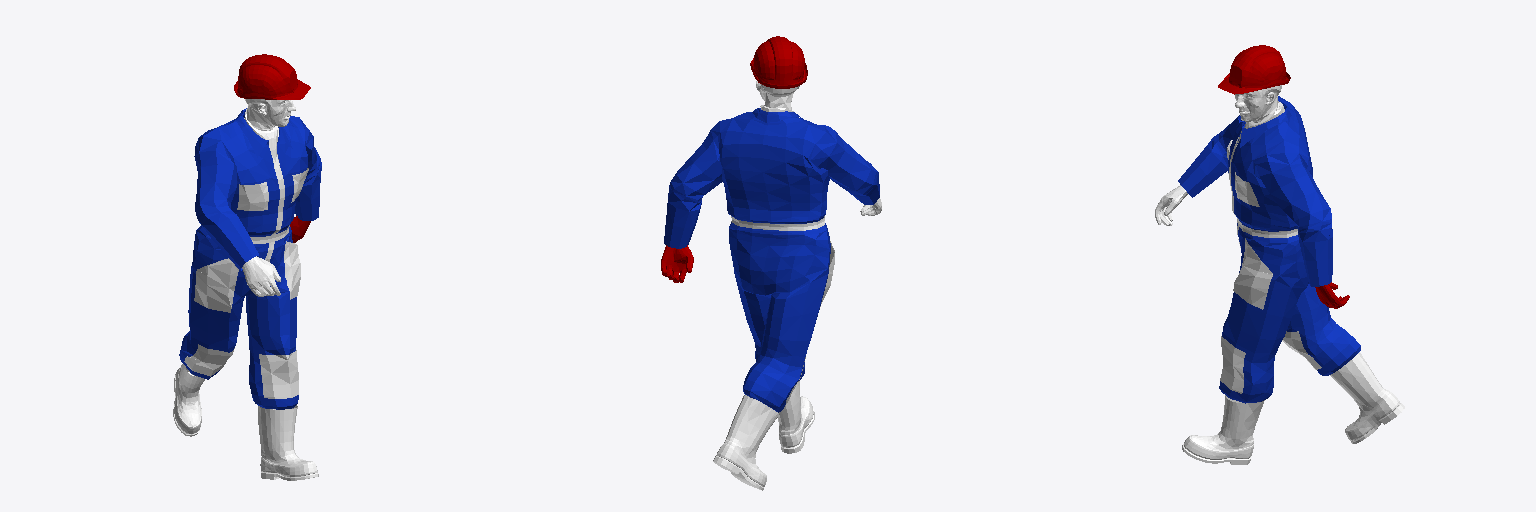
The model's file is constructor-worker.obj.
The picture shows the model from 3 angles: view 1: azimuth 30°, elevation 25°; view 2: azimuth 150°, elevation 25°; view 3: azimuth 270°, elevation 25°; orthographic projection.
Visible parts, largest first — view 1: ID105, ID83, ID179, ID69, ID45, ID75, ID133, ID139, ID57, ID63, ID51; view 2: ID105, ID75, ID179, ID83, ID123, ID17; view 3: ID105, ID83, ID75, ID179, ID51, ID139, ID45, ID133.
Boxes of the visible parts, x1,y1,x2,y2 form: ID105: [179, 108, 321, 409]; ID83: [258, 405, 317, 476]; ID179: [234, 54, 310, 99]; ID69: [194, 258, 238, 312]; ID45: [259, 350, 298, 398]; ID75: [174, 364, 204, 433]; ID133: [242, 256, 280, 296]; ID139: [244, 100, 295, 136]; ID57: [184, 344, 234, 376]; ID63: [237, 182, 268, 210]; ID51: [284, 241, 300, 299]; ID105: [664, 108, 879, 412]; ID75: [716, 395, 779, 486]; ID179: [750, 36, 807, 88]; ID83: [778, 381, 813, 447]; ID123: [661, 245, 693, 282]; ID17: [731, 216, 824, 230]; ID105: [1178, 96, 1360, 403]; ID83: [1184, 395, 1264, 459]; ID75: [1330, 352, 1399, 440]; ID179: [1218, 45, 1290, 94]; ID51: [1233, 238, 1272, 309]; ID139: [1235, 90, 1279, 141]; ID45: [1220, 336, 1245, 393]; ID133: [1155, 185, 1187, 225].
Bounding box in the file's own units: 29.67 × 71.98 × 39.27.